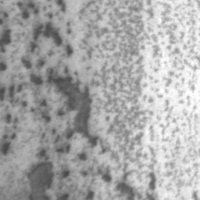patches: (54, 74, 101, 143), (28, 162, 58, 199)
pitted_surface: (92, 1, 199, 182), (0, 1, 95, 161)
